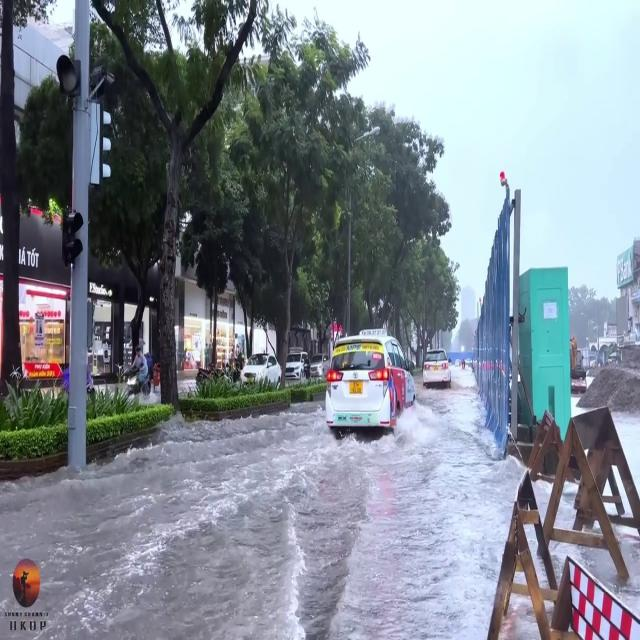bien_vang: (348, 378, 363, 399)
